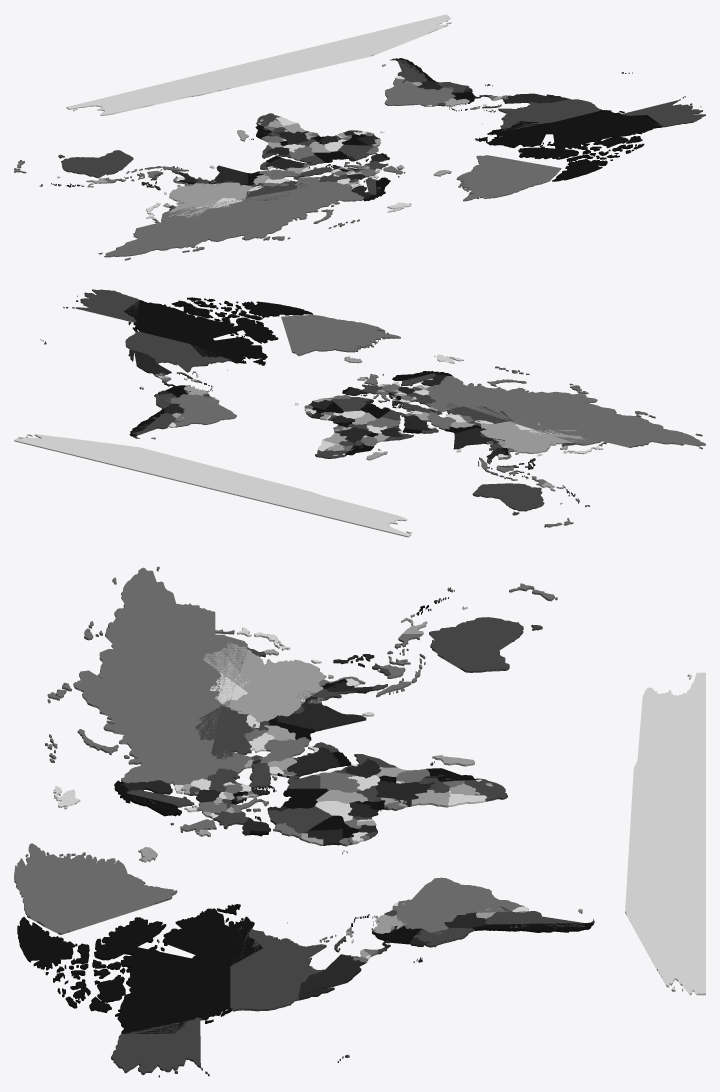
The model's file is World_Map_3D_V1.fbx.
3 renders of one model, top to bottom at view 1: azimuth 30°, elevation 25°; view 2: azimuth 150°, elevation 25°; view 3: azimuth 270°, elevation 25°, orthographic. The views are drawn at different scales.
Visible parts, largest first — view 1: Russia_3D_V1, Antarctica_3D_V1, Canada_3D_V1, United_States_3D_V1, Greenland_3D_V1, China_3D_V1, Brazil_3D_V1, Australia_3D_V1, Mexico_3D_V1, Kazakhstan_3D_V1, India_3D_V1, Argentina_3D_V1 (+1 smaller); view 2: Russia_3D_V1, Antarctica_3D_V1, Canada_3D_V1, United_States_3D_V1, Greenland_3D_V1, China_3D_V1, Brazil_3D_V1, Australia_3D_V1, Kazakhstan_3D_V1, India_3D_V1, Mexico_3D_V1, Argentina_3D_V1 (+1 smaller); view 3: Russia_3D_V1, Antarctica_3D_V1, Canada_3D_V1, United_States_3D_V1, Greenland_3D_V1, China_3D_V1, Australia_3D_V1, Brazil_3D_V1, Kazakhstan_3D_V1, India_3D_V1, Mexico_3D_V1, Algeria_3D_V1 (+6 smaller).
Boxes of the visible parts, <box> form: Russia_3D_V1: <box>98,177,363,260</box>; Antarctica_3D_V1: <box>66,14,451,115</box>; Canada_3D_V1: <box>475,110,662,181</box>; United_States_3D_V1: <box>498,72,705,130</box>; Greenland_3D_V1: <box>456,155,561,201</box>; China_3D_V1: <box>169,182,254,217</box>; Brazil_3D_V1: <box>384,78,455,106</box>; Australia_3D_V1: <box>58,150,133,178</box>; Mexico_3D_V1: <box>503,93,569,103</box>; Kazakhstan_3D_V1: <box>245,180,305,200</box>; India_3D_V1: <box>208,165,248,184</box>; Argentina_3D_V1: <box>390,58,427,83</box>; Russia_3D_V1: <box>411,366,705,449</box>; Antarctica_3D_V1: <box>14,434,411,537</box>; Canada_3D_V1: <box>123,297,312,365</box>; United_States_3D_V1: <box>40,289,233,372</box>; Greenland_3D_V1: <box>281,314,400,356</box>; China_3D_V1: <box>480,421,587,454</box>; Brazil_3D_V1: <box>167,394,236,427</box>; Australia_3D_V1: <box>472,483,544,515</box>; Kazakhstan_3D_V1: <box>446,403,513,423</box>; India_3D_V1: <box>453,428,504,449</box>; Mexico_3D_V1: <box>128,349,171,375</box>; Argentina_3D_V1: <box>132,413,182,438</box>; Russia_3D_V1: <box>45,566,251,795</box>; Antarctica_3D_V1: <box>625,672,705,995</box>; Canada_3D_V1: <box>17,904,262,1033</box>; United_States_3D_V1: <box>111,926,349,1077</box>; Greenland_3D_V1: <box>14,843,177,934</box>; China_3D_V1: <box>203,642,333,722</box>; Australia_3D_V1: <box>429,617,542,672</box>; Brazil_3D_V1: <box>395,877,524,934</box>; Kazakhstan_3D_V1: <box>195,705,254,759</box>; India_3D_V1: <box>275,693,366,731</box>; Mexico_3D_V1: <box>298,954,364,1000</box>; Algeria_3D_V1: <box>268,806,331,833</box>.
Size of the model in its own units: 6098 by 10.2 by 3501.
